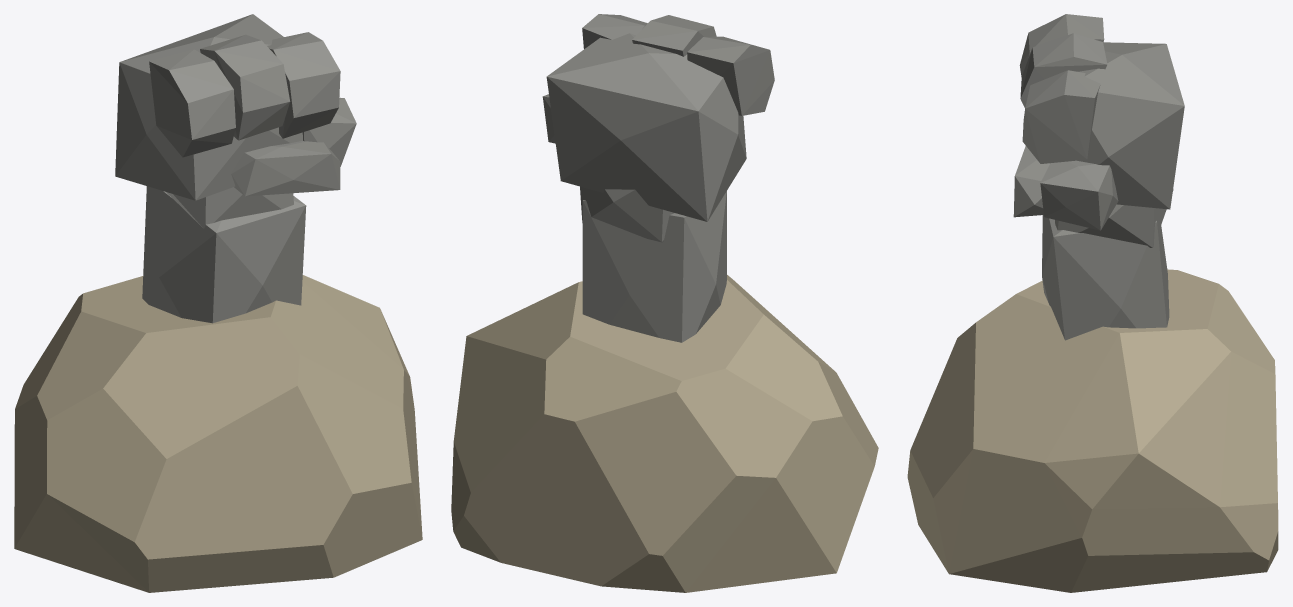
Rendered from StatueBoulder.fbx.
3 renders of one model, left to right at view 1: azimuth 30°, elevation 25°; view 2: azimuth 150°, elevation 25°; view 3: azimuth 270°, elevation 25°, orthographic.
Parts seen in each view (by area): view 1: StatueBoulder, StatueBoulder_Fist; view 2: StatueBoulder, StatueBoulder_Fist; view 3: StatueBoulder, StatueBoulder_Fist.
Part boxes in pixels (x1=…): StatueBoulder: x1=14, y1=275, x2=422, y2=592; StatueBoulder_Fist: x1=115, y1=14, x2=356, y2=323; StatueBoulder: x1=451, y1=275, x2=878, y2=592; StatueBoulder_Fist: x1=542, y1=14, x2=774, y2=342; StatueBoulder: x1=907, y1=269, x2=1278, y2=592; StatueBoulder_Fist: x1=1013, y1=14, x2=1184, y2=340.
Bounding box in the file's own units: 23.64 × 28.66 × 20.41.
